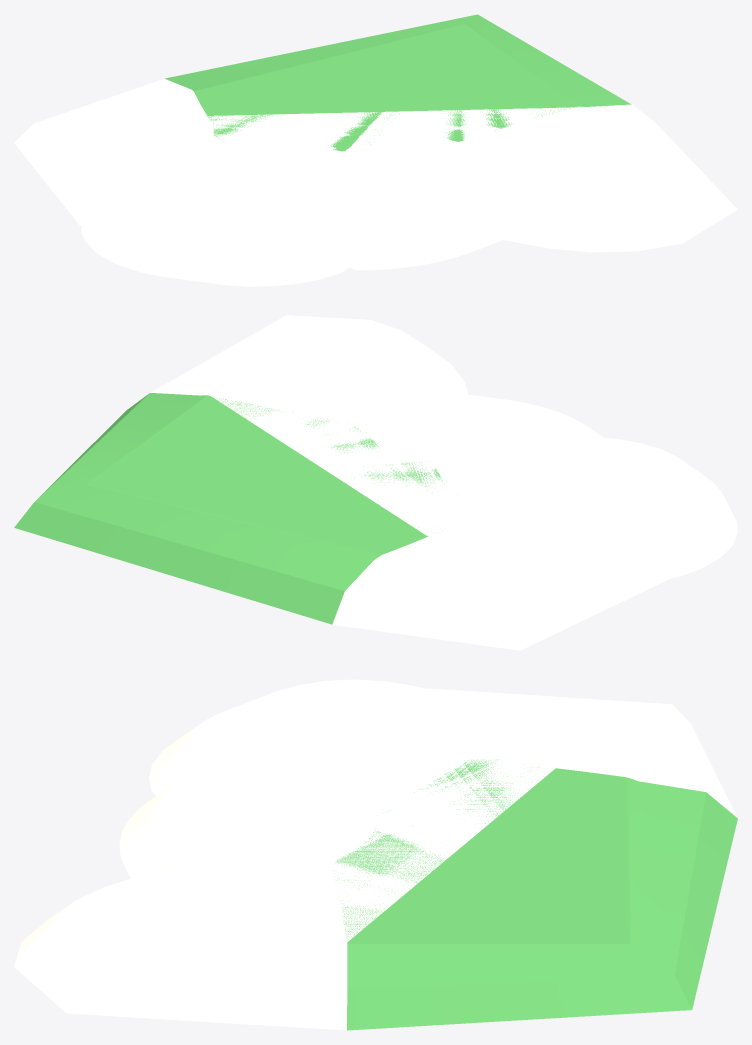
Rendered from groundUpdated.fbx.
3 views of the same model, one above another, from view 1: azimuth 30°, elevation 25°; view 2: azimuth 150°, elevation 25°; view 3: azimuth 270°, elevation 25° (orthographic). The views are drawn at different scales.
Visible parts, largest first — view 1: addon; view 2: addon; view 3: addon.
Boxes of the visible parts, x1,y1,x2,y2 form: addon: (14, 14, 737, 286); addon: (14, 315, 737, 650); addon: (14, 679, 737, 1030).
Bounding box in the file's own units: 81.15 × 4.53 × 73.43.
